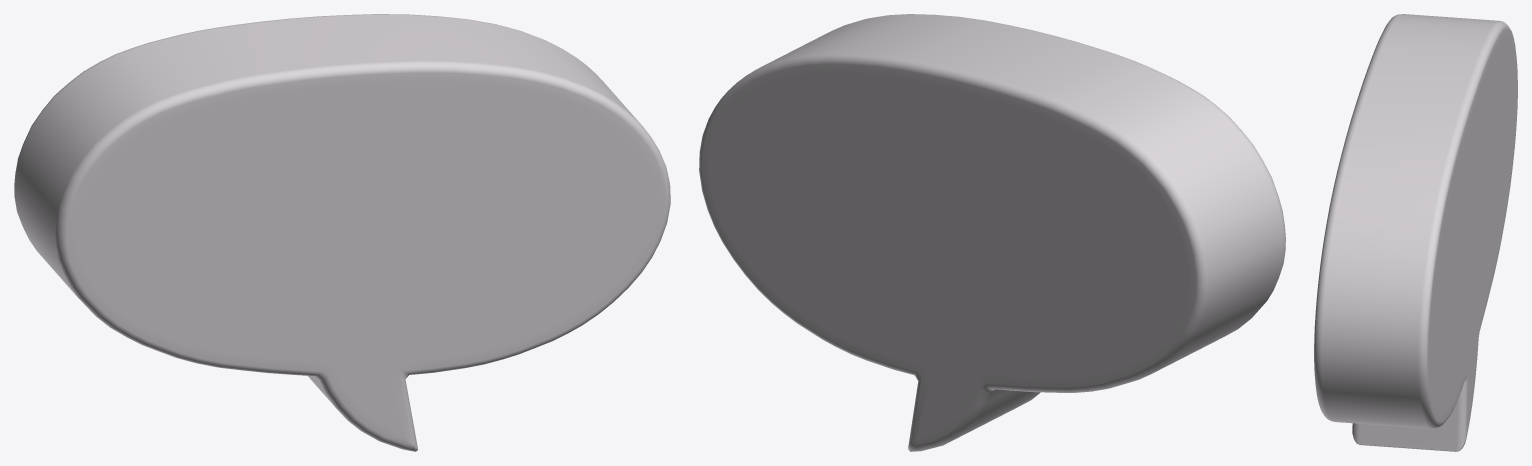
3 renders of one model, left to right at view 1: azimuth 30°, elevation 25°; view 2: azimuth 150°, elevation 25°; view 3: azimuth 270°, elevation 25°, orthographic. The views are drawn at different scales.
Visible parts, largest first — view 1: root; view 2: root; view 3: root.
Boxes of the visible parts, x1=… form: root: x1=14, y1=14, x2=670, y2=451; root: x1=699, y1=14, x2=1285, y2=451; root: x1=1314, y1=14, x2=1517, y2=451.
Size of the model in its own units: 0.5199 by 0.3459 by 0.1874.
Materials: 1 (1 with a texture image).
